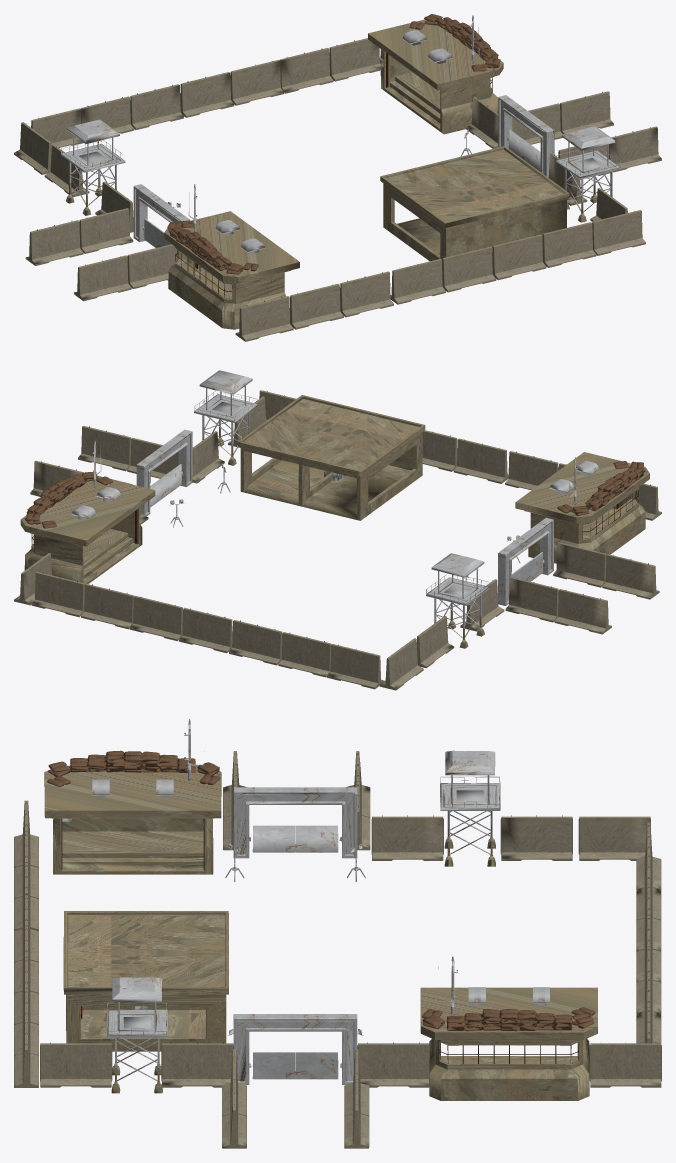
File: checkpoint.glb
3 views of the same model, one above another, from view 1: azimuth 30°, elevation 25°; view 2: azimuth 150°, elevation 25°; view 3: azimuth 270°, elevation 25° (orthographic). The views are drawn at different scales.
Parts seen in each view (by area): view 1: checkpoint_post; view 2: checkpoint_post; view 3: checkpoint_post.
Boxes of the visible parts, <box> form: checkpoint_post: <box>14,14,661,341</box>; checkpoint_post: <box>14,370,661,690</box>; checkpoint_post: <box>14,719,661,1148</box>.
Bounding box in the file's own units: 14.33 × 2.43 × 10.91.
Materials: 2 (1 with a texture image).
